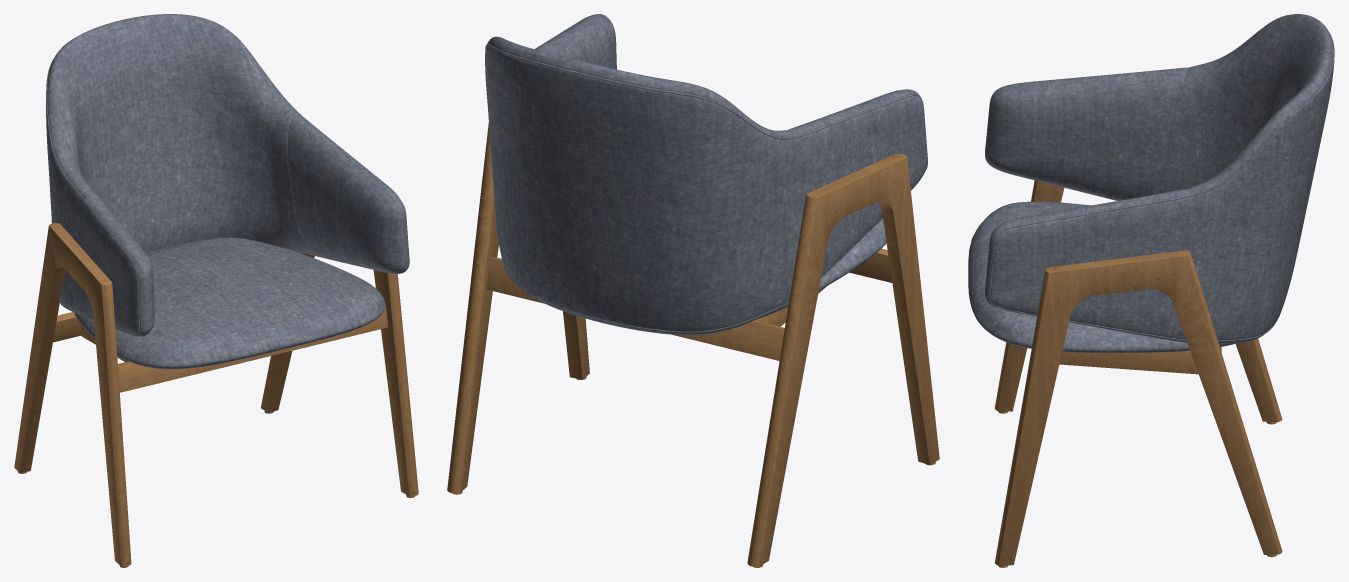
File: fauteuil labo.obj
3 views of the same model, side by side, from view 1: azimuth 30°, elevation 25°; view 2: azimuth 150°, elevation 25°; view 3: azimuth 270°, elevation 25° (orthographic). The views are drawn at different scales.
Visible parts, largest first — view 1: Chair25_1, Chair25_16682_11, Chair25_16063_6, Chair25_15704_2; view 2: Chair25_1, Chair25_16063_6, Chair25_15704_2, Chair25_16682_11; view 3: Chair25_1, Chair25_15704_2, Chair25_16682_11, Chair25_16063_6.
Boxes of the visible parts, x1,y1,x2,y2 form: Chair25_1: (46,14,409,336); Chair25_16682_11: (74,237,385,369); Chair25_16063_6: (14,223,414,566); Chair25_15704_2: (261,253,418,496); Chair25_1: (485,14,927,335); Chair25_16063_6: (486,153,939,567); Chair25_15704_2: (447,122,589,494); Chair25_16682_11: (760,219,886,317); Chair25_1: (985,14,1334,343); Chair25_15704_2: (994,250,1282,565); Chair25_16682_11: (968,201,1237,352); Chair25_16063_6: (994,180,1282,567).
Bounding box in the file's own units: 62.1 × 80.2 × 60.
2 materials, 2 textured.
